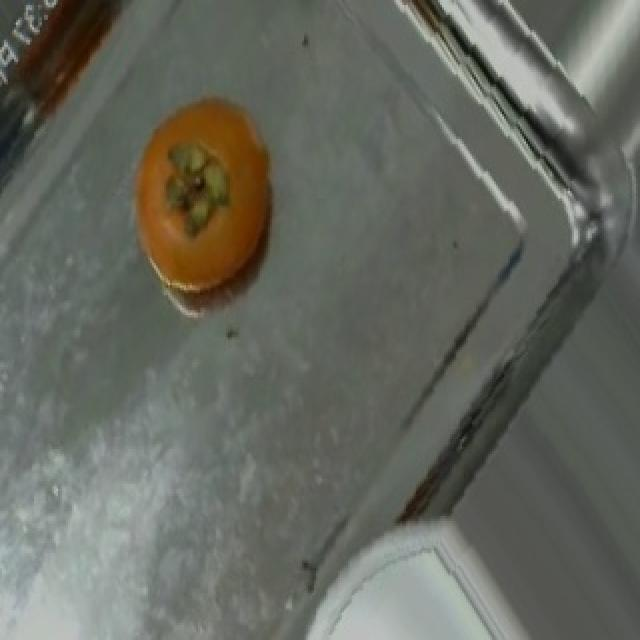Fruit: (106, 80, 302, 312)
